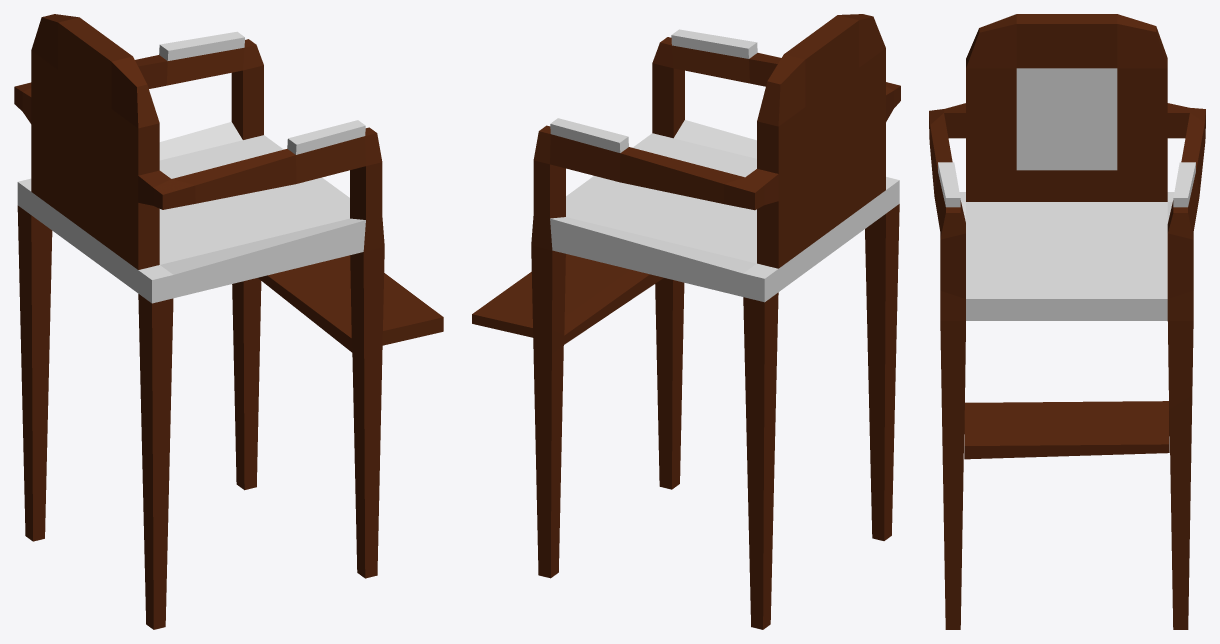
The model's file is BabyChair.fbx.
The picture shows the model from 3 angles, left to right: view 1: azimuth 30°, elevation 25°; view 2: azimuth 150°, elevation 25°; view 3: azimuth 270°, elevation 25°; orthographic projection. The views are drawn at different scales.
Parts seen in each view (by area): view 1: ChairSeat; view 2: ChairSeat; view 3: ChairSeat.
Boxes of the visible parts, x1,y1,x2,y2 form: ChairSeat: (14,14,443,629); ChairSeat: (472,14,900,629); ChairSeat: (929,14,1205,629).
Bounding box in the file's own units: 387 × 657 × 323.
